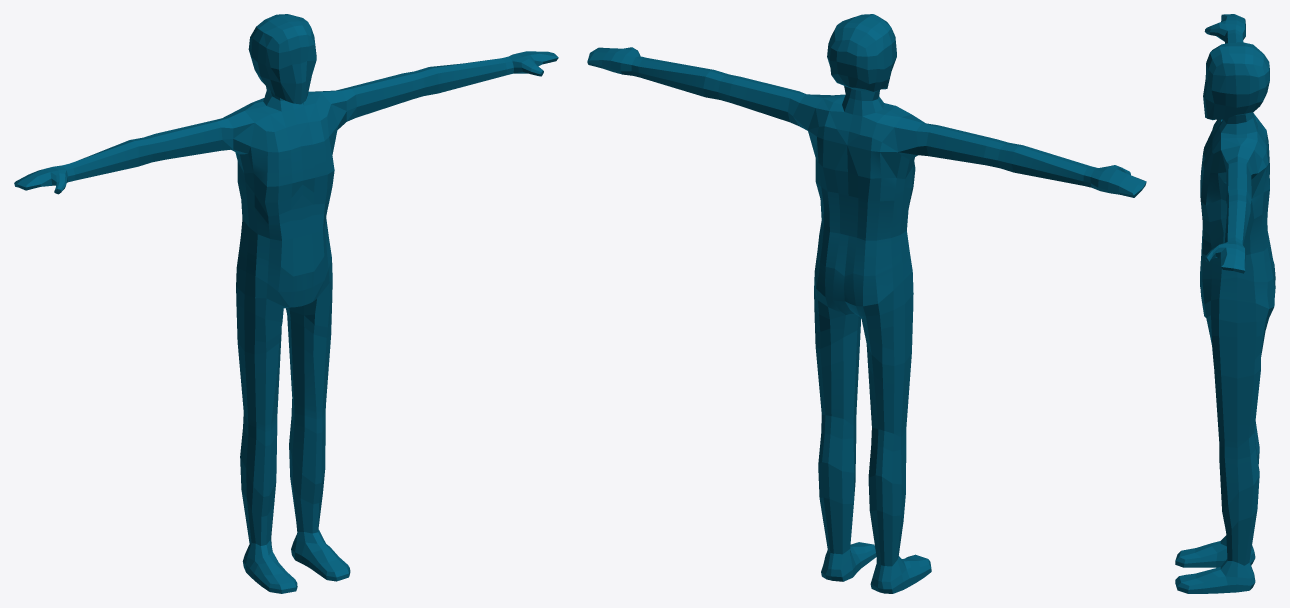
3 views of the same model, side by side, from view 1: azimuth 30°, elevation 25°; view 2: azimuth 150°, elevation 25°; view 3: azimuth 270°, elevation 25° (orthographic). The views are drawn at different scales.
Visible parts, largest first — view 1: BasicBody; view 2: BasicBody; view 3: BasicBody.
Part boxes in pixels (left/top/right/bottom): BasicBody: left=14, top=14, right=558, bottom=593; BasicBody: left=587, top=14, right=1146, bottom=593; BasicBody: left=1175, top=14, right=1275, bottom=593.
Bounding box in the file's own units: 2.07 × 2 × 0.3444.
